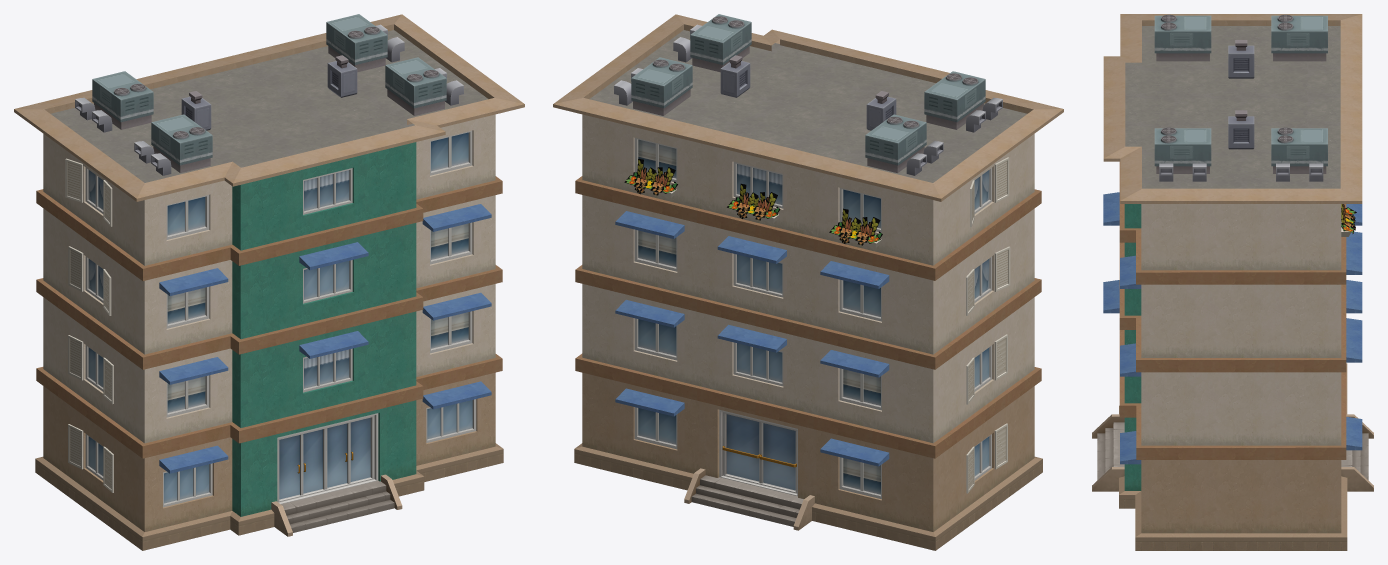
File: Building_6_1.glb
The picture shows the model from 3 angles, left to right: view 1: azimuth 30°, elevation 25°; view 2: azimuth 150°, elevation 25°; view 3: azimuth 270°, elevation 25°; orthographic projection.
Parts seen in each view (by area): view 1: Building_6_Roof_1; view 2: Building_6_Roof_1; view 3: Building_6_Roof_1.
Part boxes in pixels (x1,y1,x2,y2): Building_6_Roof_1: [14, 14, 524, 550]; Building_6_Roof_1: [553, 14, 1063, 550]; Building_6_Roof_1: [1092, 14, 1373, 550].
Bounding box in the file's own units: 13.26 × 12.79 × 8.45.
15 materials, 15 textured.
